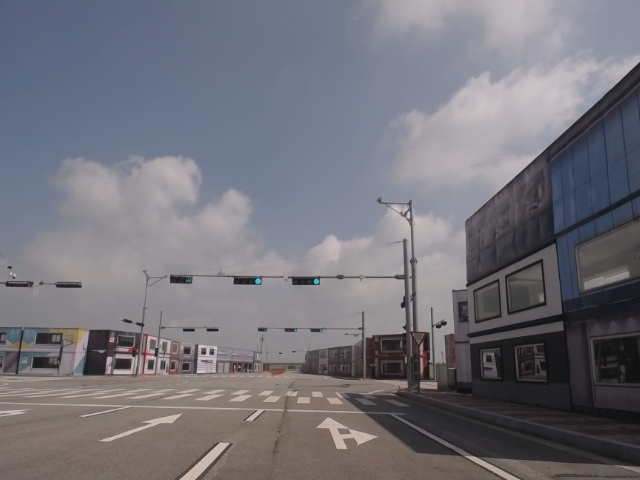straight_green_4: (293, 276, 321, 286), (234, 277, 263, 285)
